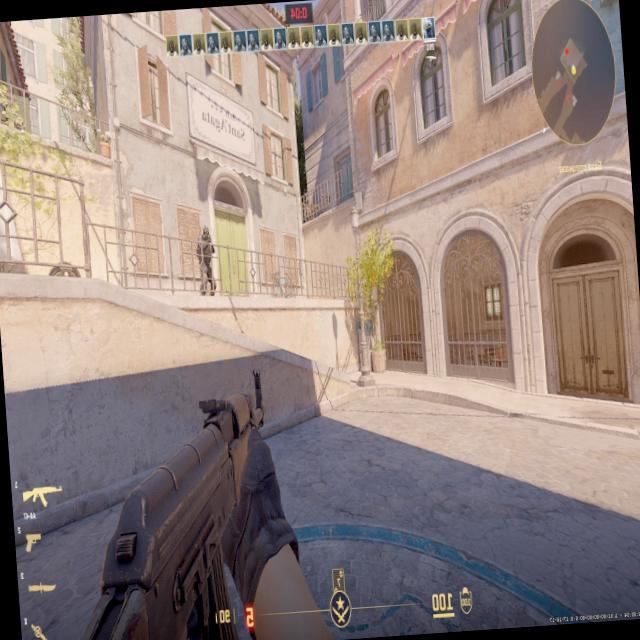CT: (198, 226, 215, 291)
CT_heat: (200, 223, 211, 246)
